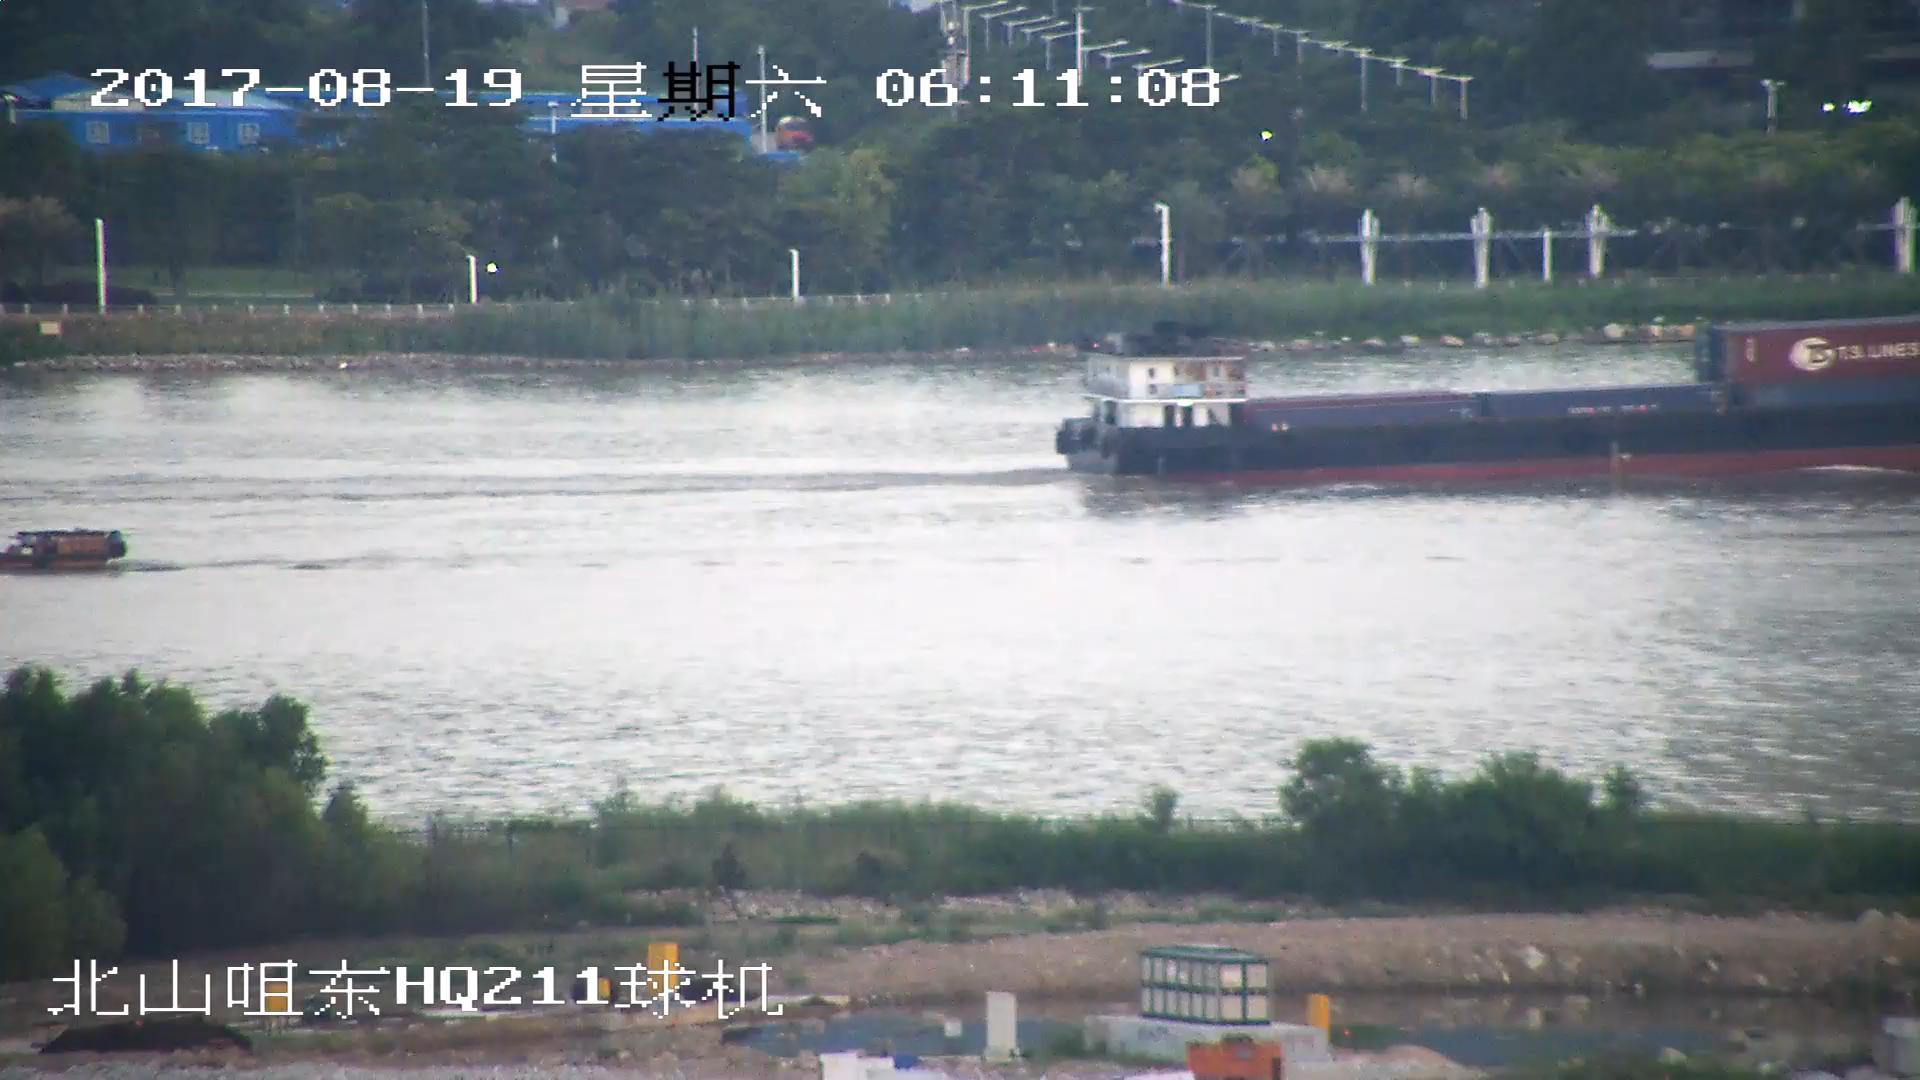Ship: (1054, 316, 1920, 481), (3, 525, 131, 578)
